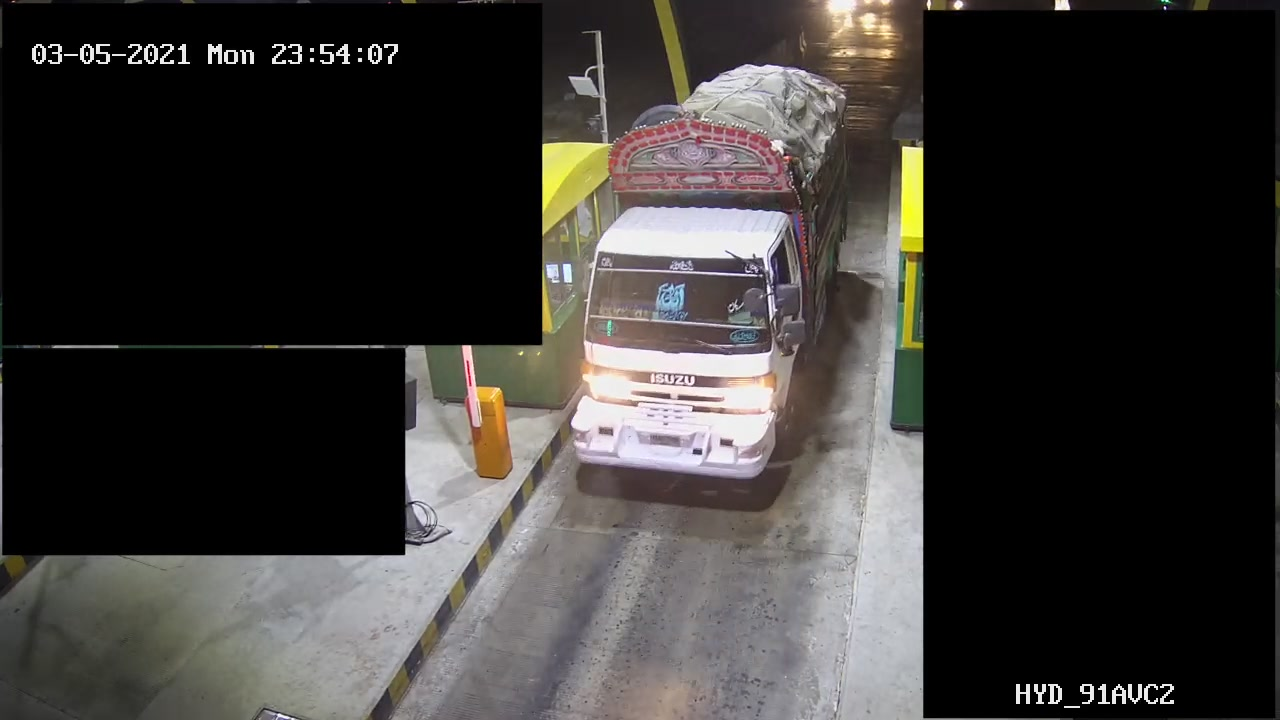F3: (561, 54, 853, 495)
